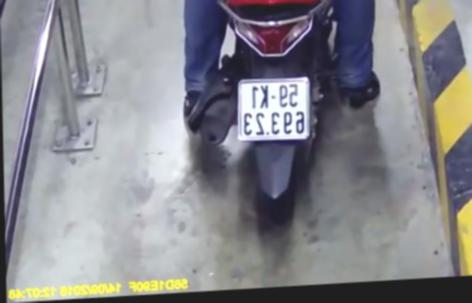License_Plate: (227, 73, 320, 152)
